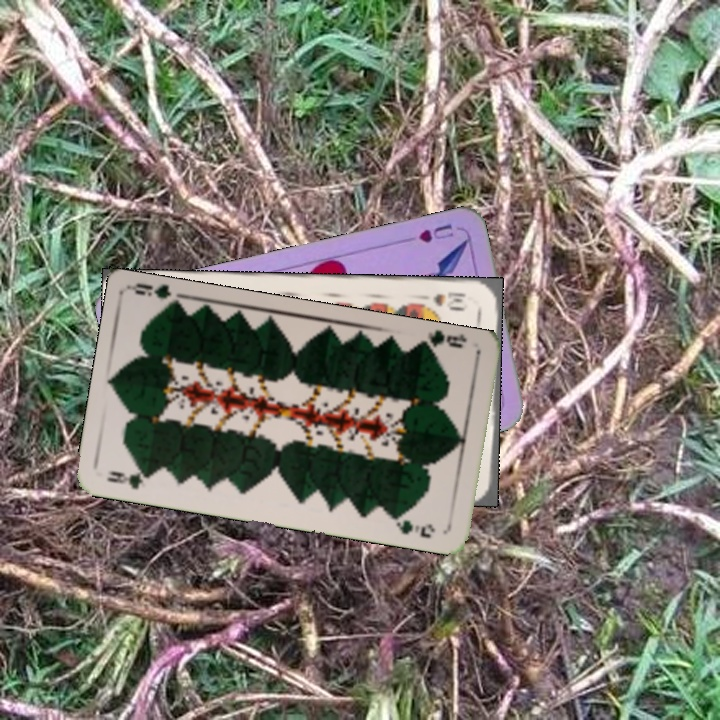G9: (416, 327, 470, 356), (102, 467, 156, 492)
HU: (414, 219, 456, 246)
S10: (417, 288, 468, 311)
